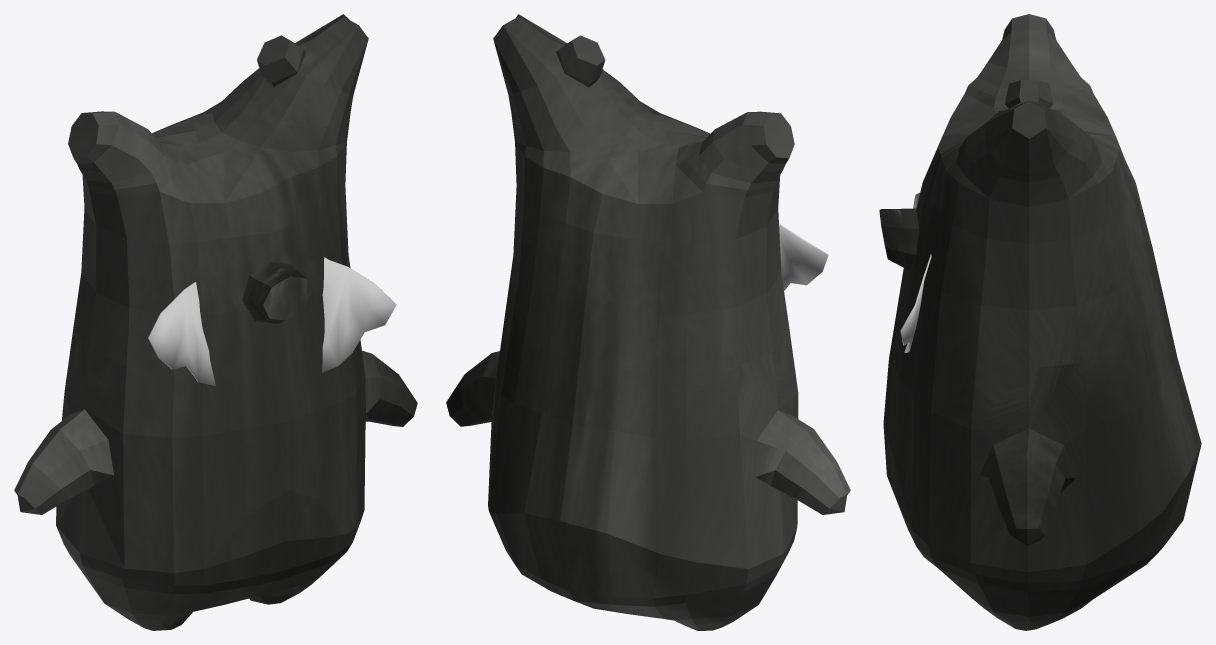
The model's file is frame_0026.obj.
3 views of the same model, side by side, from view 1: azimuth 30°, elevation 25°; view 2: azimuth 150°, elevation 25°; view 3: azimuth 270°, elevation 25° (orthographic).
Visible parts, largest first — view 1: korok, leaf, nose; view 2: korok, leaf; view 3: korok, nose, leaf.
Boxes of the visible parts, x1=… form: korok: x1=14, y1=14, x2=417, y2=630; leaf: x1=148, y1=257, x2=396, y2=385; nose: x1=242, y1=262, x2=311, y2=323; korok: x1=446, y1=14, x2=850, y2=630; leaf: x1=779, y1=223, x2=828, y2=290; korok: x1=883, y1=14, x2=1201, y2=630; nose: x1=879, y1=208, x2=919, y2=270; leaf: x1=900, y1=192, x2=931, y2=352.
Size of the model in its own units: 1.67 by 2.28 by 1.18.
